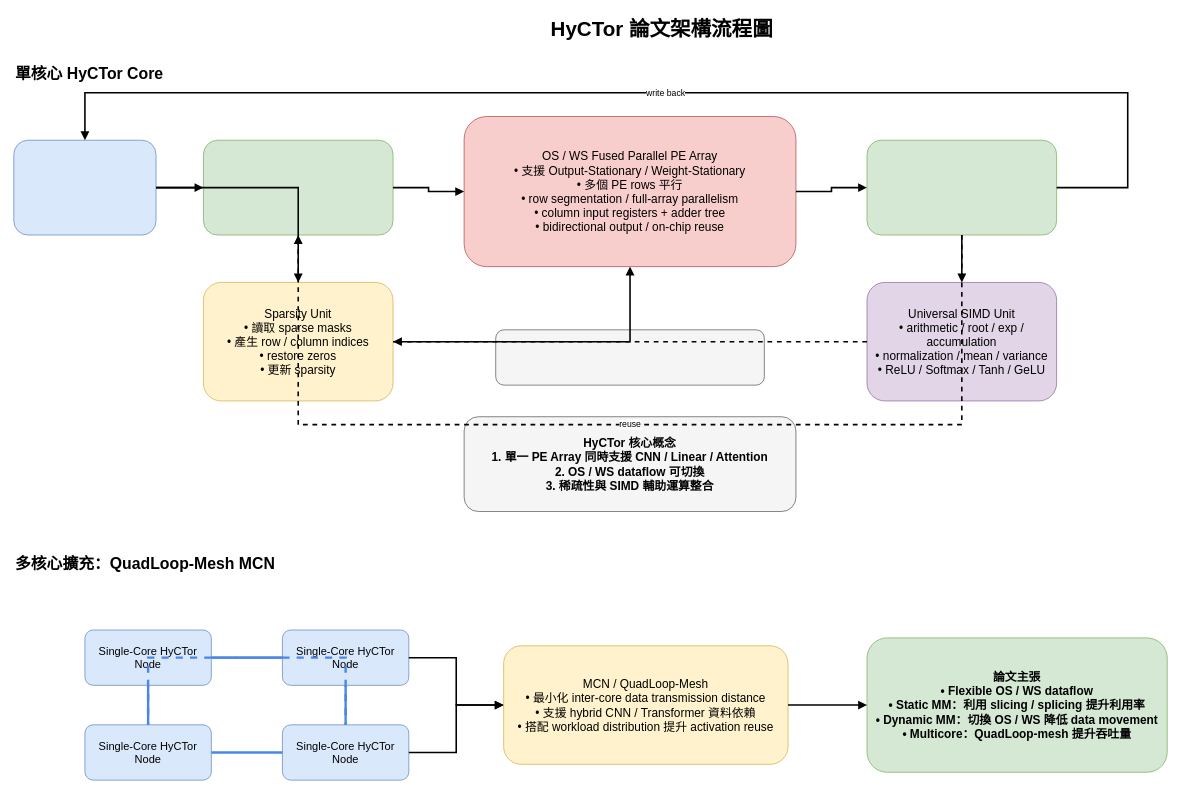
The diagram is 1181 pixels wide and 794 high, and some of its shapes have lost their labels. Here are the shapes that lost their labels. From the top down, the box of each, then its label:
(13, 139, 156, 235): Off-chip DRAM • Activations • Weights • Sparse masks
(203, 139, 393, 235): Input Buffer • 從 DRAM 載入 activations / weights • 送往 PE Array
(866, 139, 1057, 235): Output Buffer • 接收 MM 結果 • 可寫回 DRAM • 或回送 Input Buffer 重用
(495, 329, 764, 385): Data Reuse Path Output Buffer → Input Buffer 支援 on-chip data reuse
